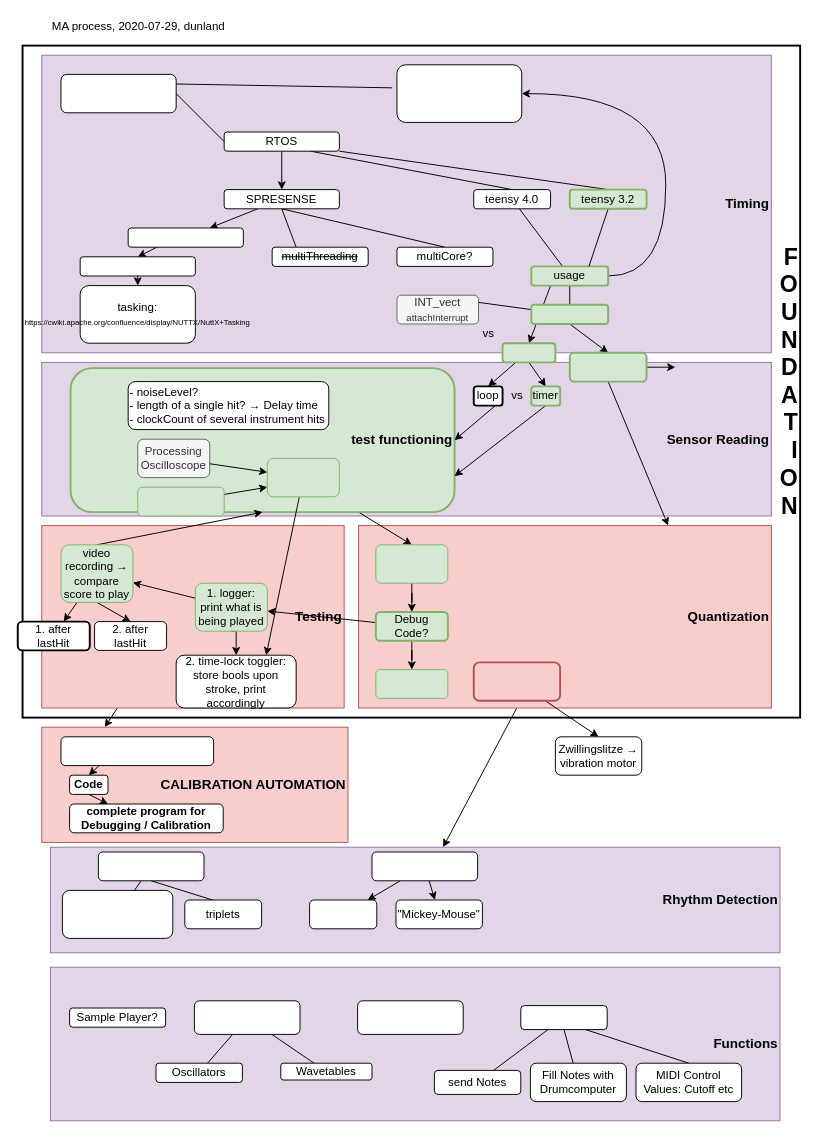
Image size: 817x1138. Some labels were removed from this diagram. Here are the shapes that lost their labels. From the top down, the centre of each, then its label:
[118,93]: Problems with time precision
[459,93]: General real time processing coding questions
[185,237]: NuttX
[137,266]: usage?
[569,313]: ISR
[528,352]: polling
[607,366]: TIMER_ovf Timer
[302,477]: characteristic instrument signatures
[180,501]: timed sampling, store in array
[411,563]: CODING!
[411,683]: Testing & evaluation
[516,681]: tap Tempo implementation
[137,751]: knobs for adjustments of threshold, crossings, delay
[150,866]: Detecting Rhythmics
[424,866]: "higher level" rhythmic figures
[117,913]: even fractions (1/2, 1/4, 1/8, 1/1, 1/32)
[343,914]: "Tee-Kanne"
[246,1017]: Sound Generation
[410,1017]: "Attention Span" ‒ Scope Control
[563,1017]: MIDI Control
